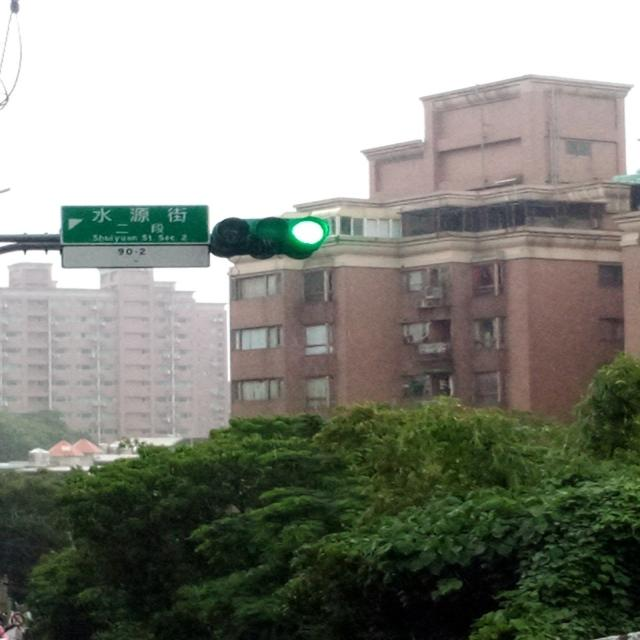green light: (206, 213, 333, 263)
